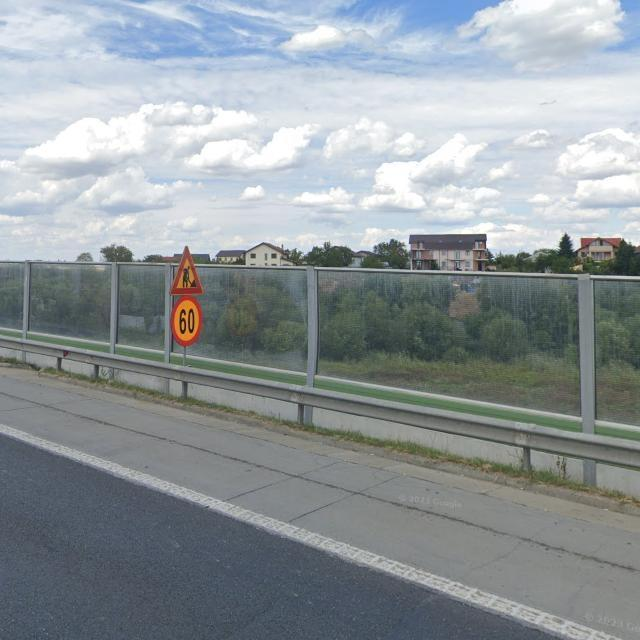forb_speed_over_60: (172, 296, 202, 346)
